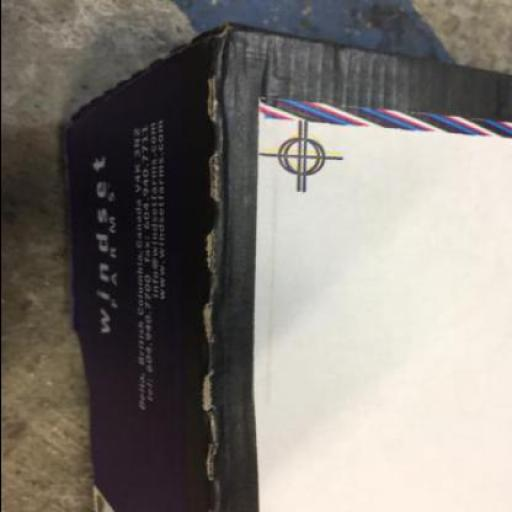cardboard: (56, 21, 510, 511), (62, 21, 510, 511)
